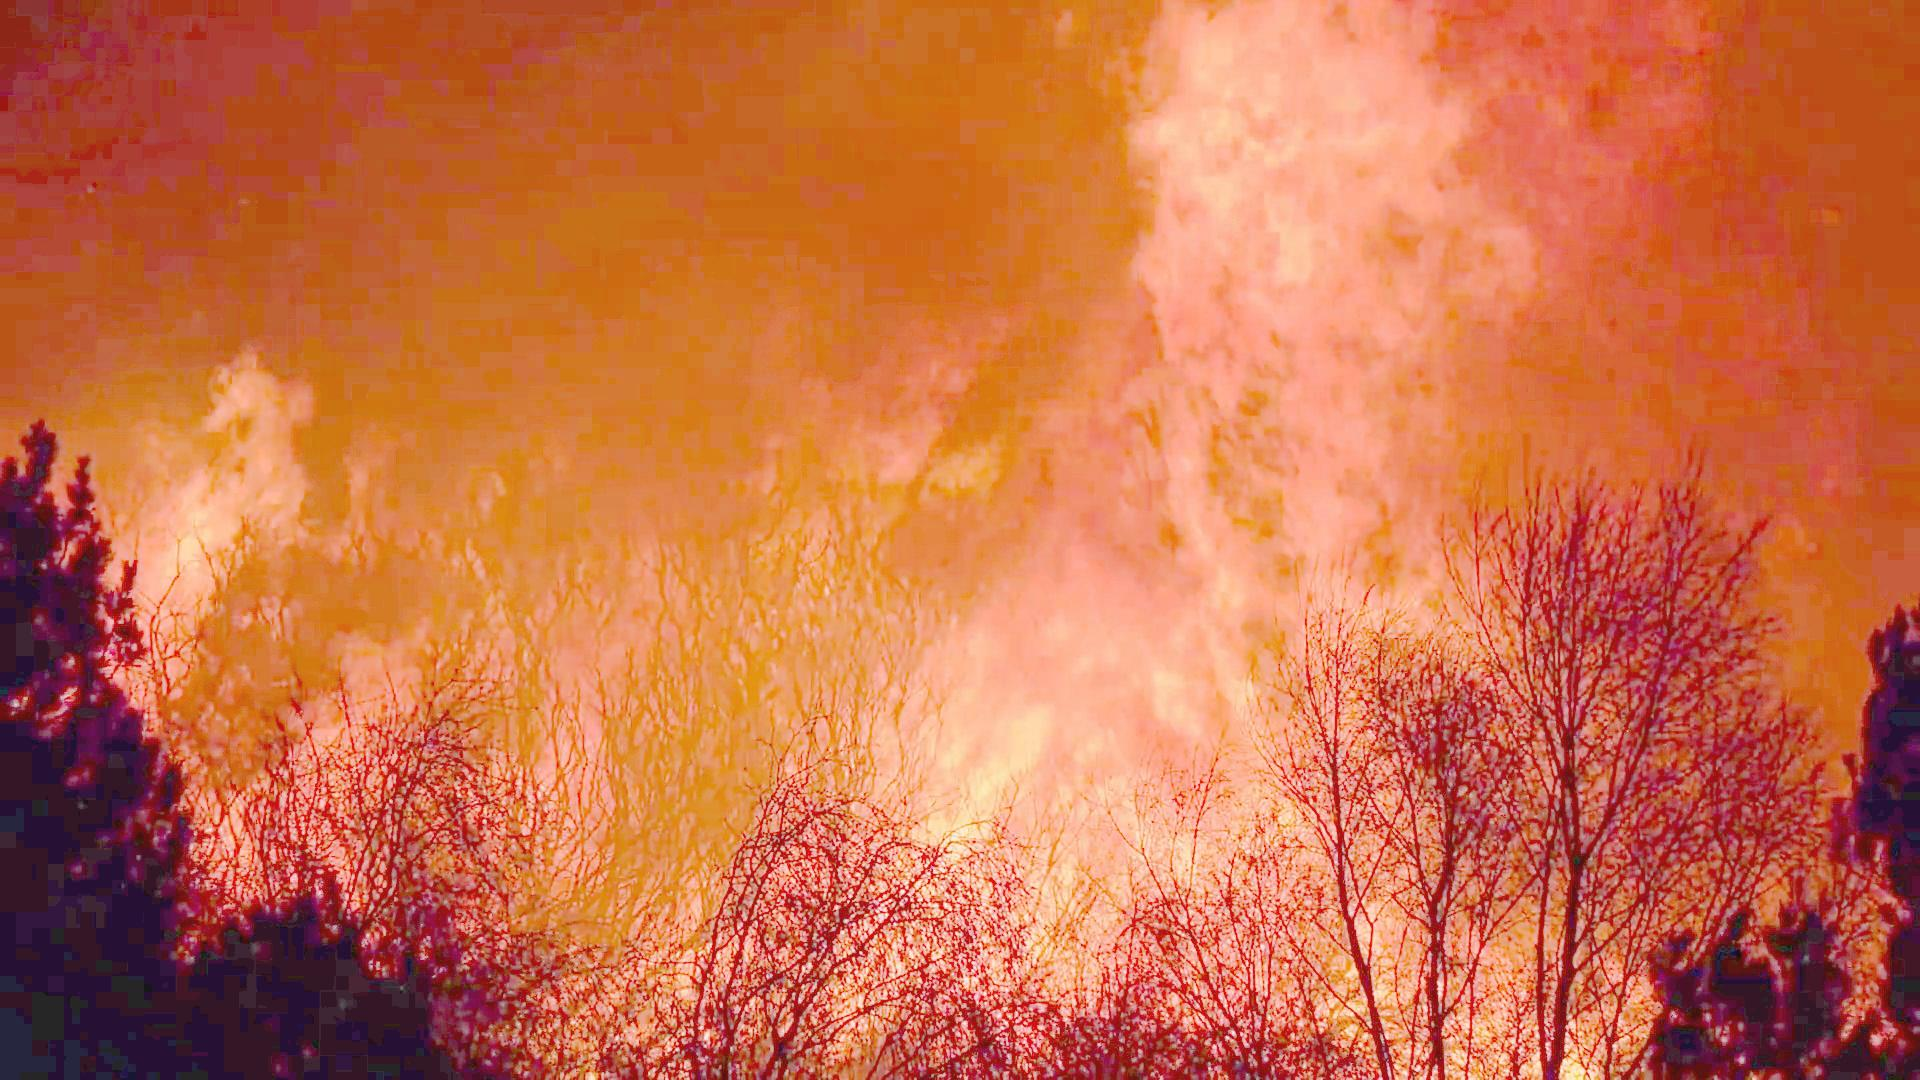fire: (833, 0, 1640, 852), (109, 334, 348, 634)
